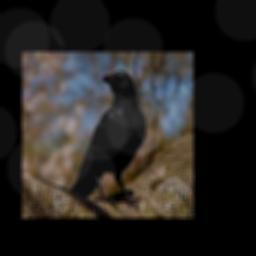Crow: (70, 70, 146, 208)
